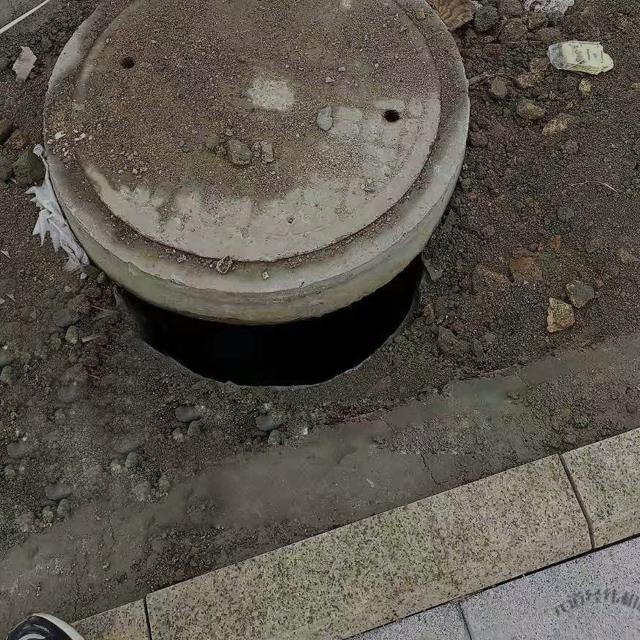uncovered: (45, 0, 482, 388)
